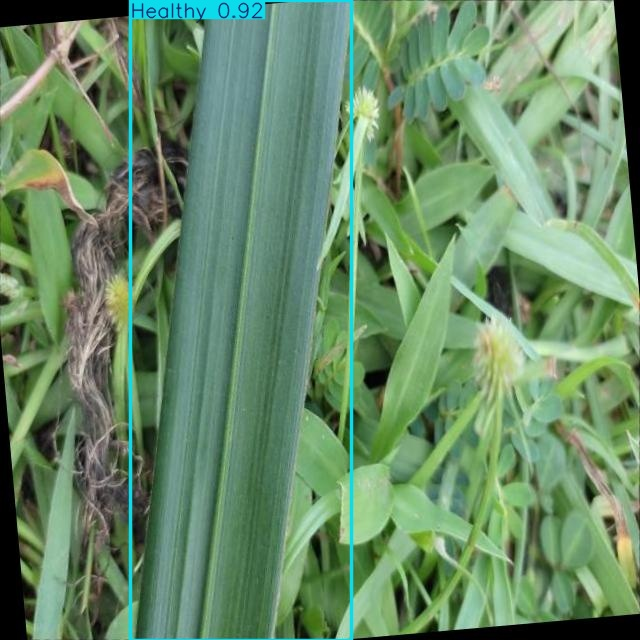Healthy: (131, 1, 351, 640)
